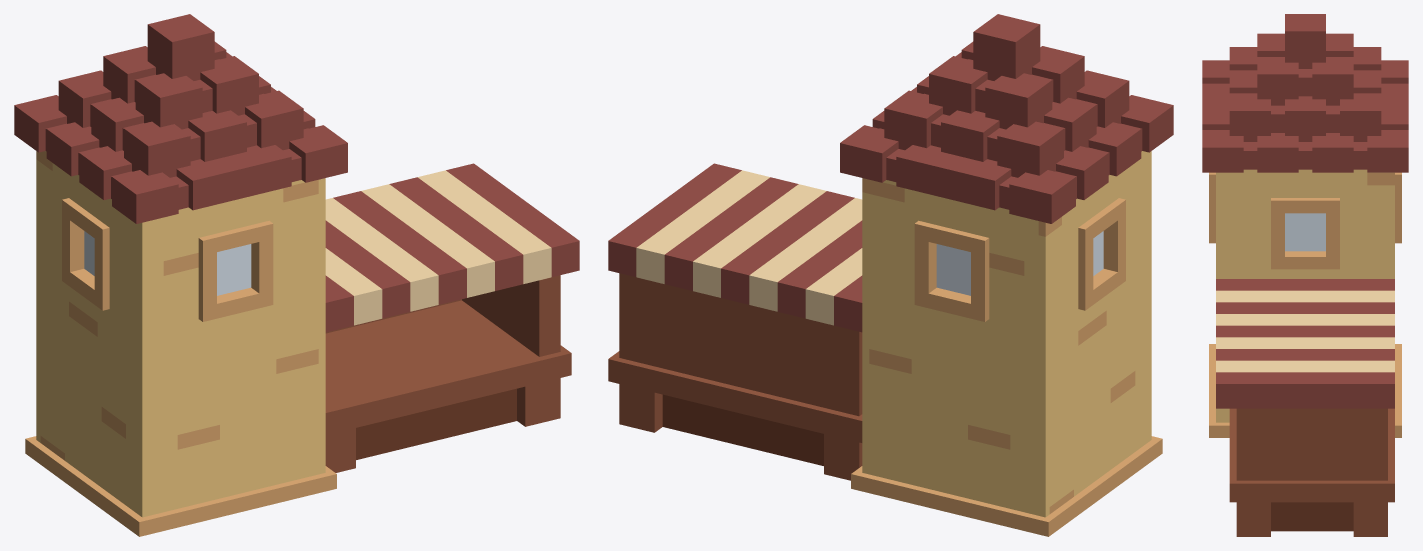
The model's file is village_house_5.obj.
3 views of the same model, side by side, from view 1: azimuth 30°, elevation 25°; view 2: azimuth 150°, elevation 25°; view 3: azimuth 270°, elevation 25° (orthographic). The views are drawn at different scales.
Size of the model in its own units: 6.4 by 6 by 3.
Materials: 1 (1 with a texture image).
